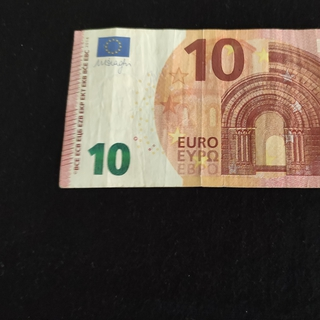10EUROFront: (58, 27, 320, 188)
